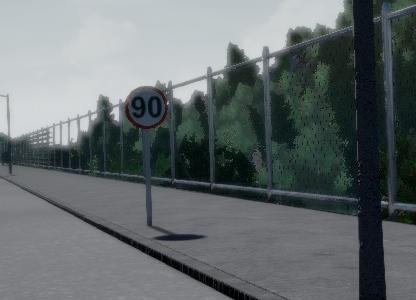Speed_90: (122, 83, 171, 131)
